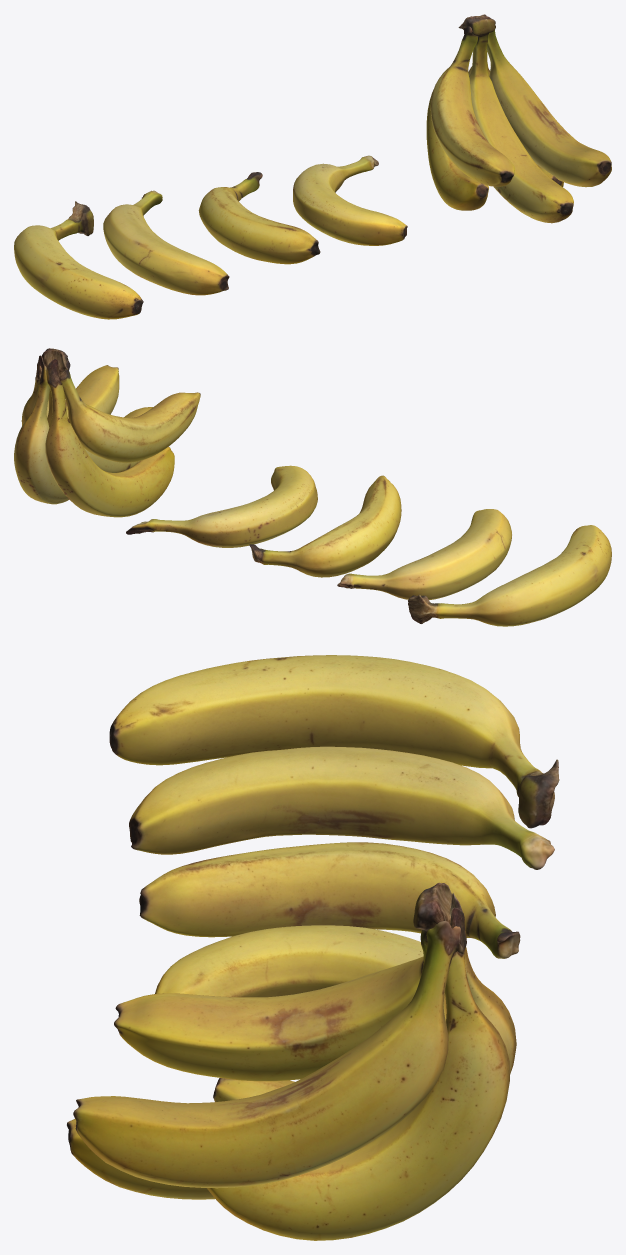
File: bananas.glb
The picture shows the model from 3 angles, top to bottom: view 1: azimuth 30°, elevation 25°; view 2: azimuth 150°, elevation 25°; view 3: azimuth 270°, elevation 25°; orthographic projection. The views are drawn at different scales.
Visible parts, largest first — view 1: bananas_bunch, bananas_d, bananas_c, bananas_a, bananas_b; view 2: bananas_bunch, bananas_d, bananas_c, bananas_a, bananas_b; view 3: bananas_bunch, bananas_d, bananas_c, bananas_b, bananas_a.
Part boxes in pixels (x1,y1,x2,y2): bananas_bunch: [426, 14, 611, 223]; bananas_d: [14, 201, 143, 319]; bananas_c: [103, 190, 229, 295]; bananas_a: [293, 155, 407, 245]; bananas_b: [198, 172, 320, 264]; bananas_bunch: [14, 348, 200, 517]; bananas_d: [408, 525, 611, 626]; bananas_c: [337, 509, 511, 600]; bananas_a: [126, 465, 317, 547]; bananas_b: [249, 475, 401, 577]; bananas_bunch: [67, 882, 516, 1240]; bananas_d: [109, 655, 559, 828]; bananas_c: [129, 746, 554, 869]; bananas_b: [139, 842, 520, 958]; bananas_a: [155, 925, 423, 997].
Bounding box in the file's own units: 0.6 × 0.1788 × 0.2441.
Materials: 1 (1 with a texture image).
